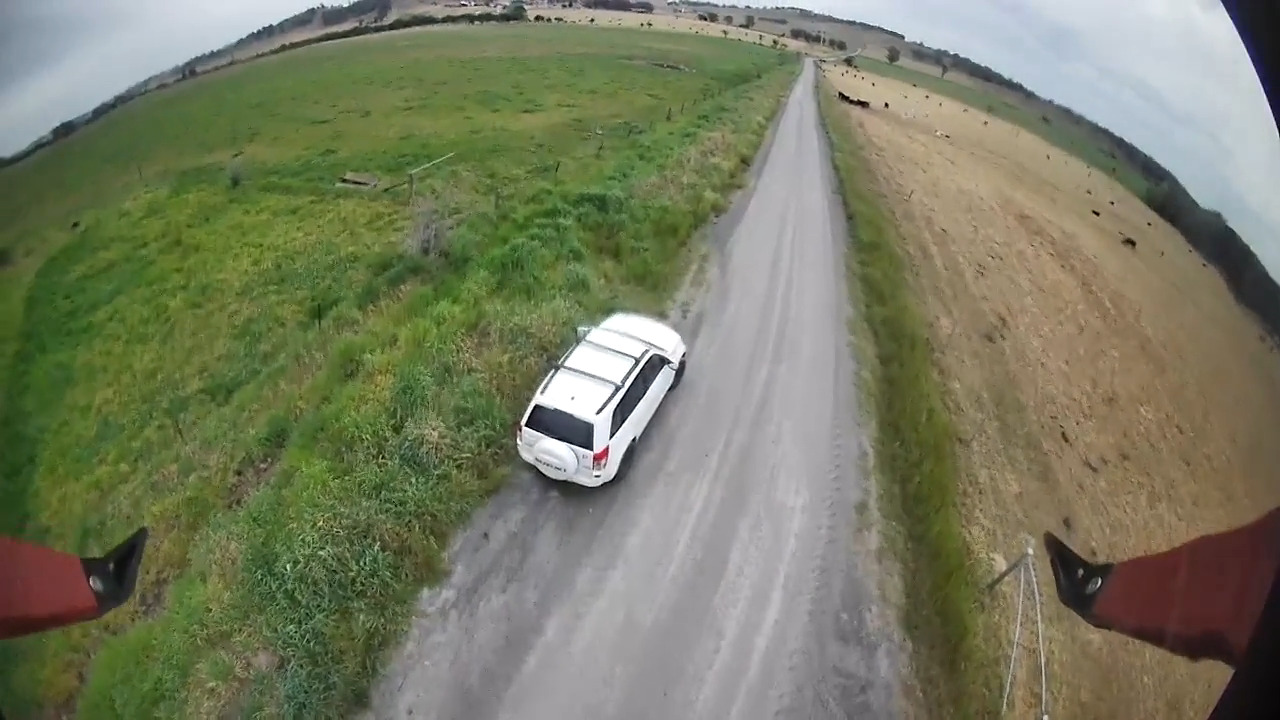Car: (515, 312, 688, 487)
